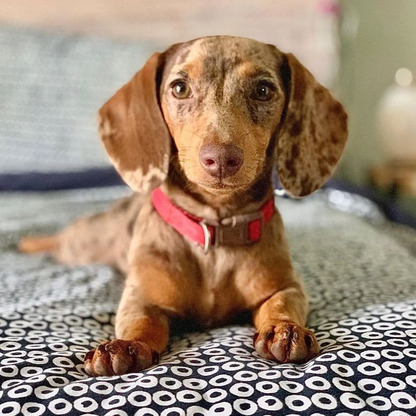dachshund: (49, 37, 364, 375)
